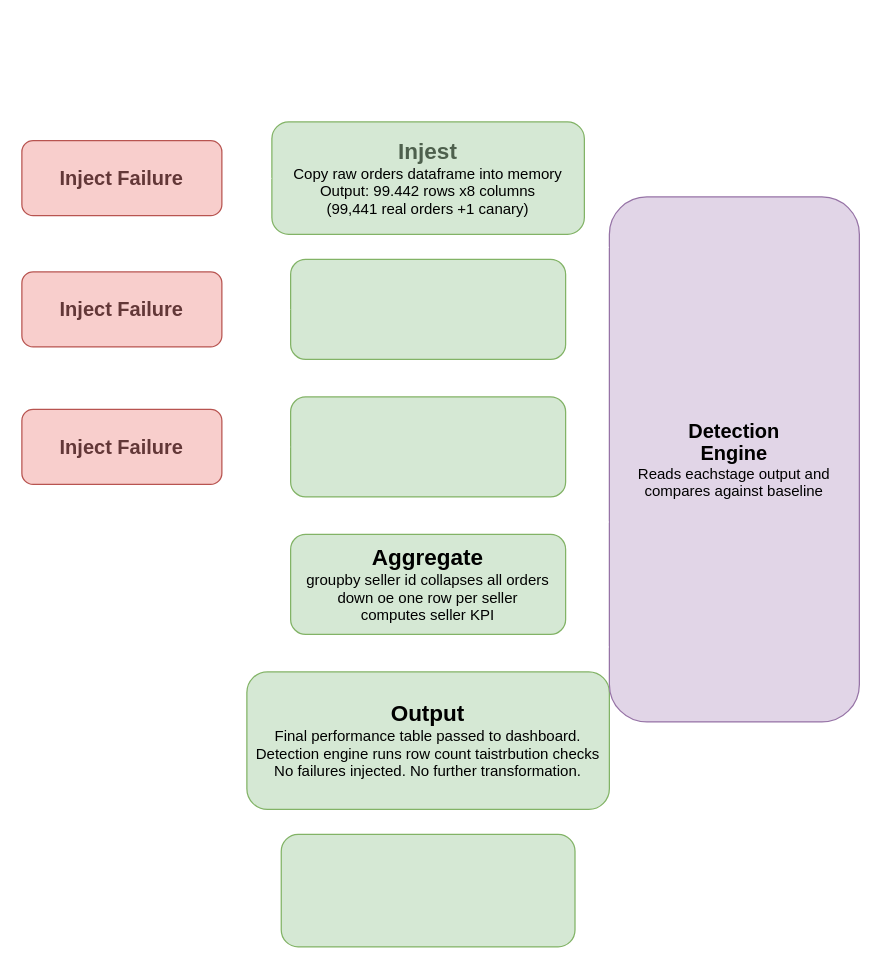
Image size: 881x969. Some labels were removed from this diagram. The box of each missing label's shape, as (x1, y1, x2, y2) in pixels:
Enrich Three left joins onto orders dataframe: (289, 258, 566, 359)
Streamlit Dashboard: (280, 833, 575, 947)
Transform Compute 3 new columns, no joins: (289, 396, 566, 497)
